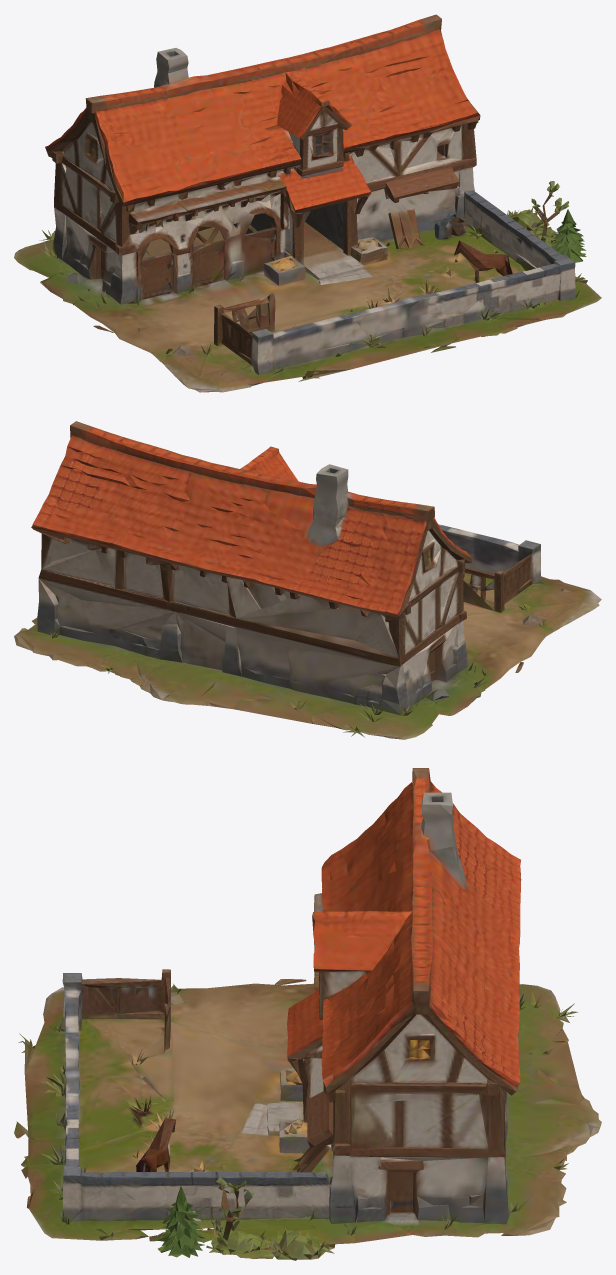
Rendered from stable.glb.
The picture shows the model from 3 angles, top to bottom: view 1: azimuth 30°, elevation 25°; view 2: azimuth 150°, elevation 25°; view 3: azimuth 270°, elevation 25°; orthographic projection. The views are drawn at different scales.
Size of the model in its own units: 1.89 by 0.8232 by 1.66.
1 material, 1 textured.
